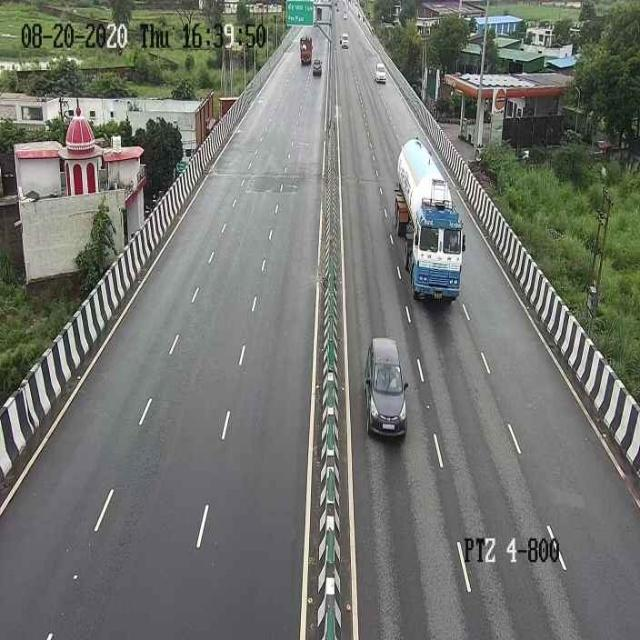car: (362, 331, 408, 445)
